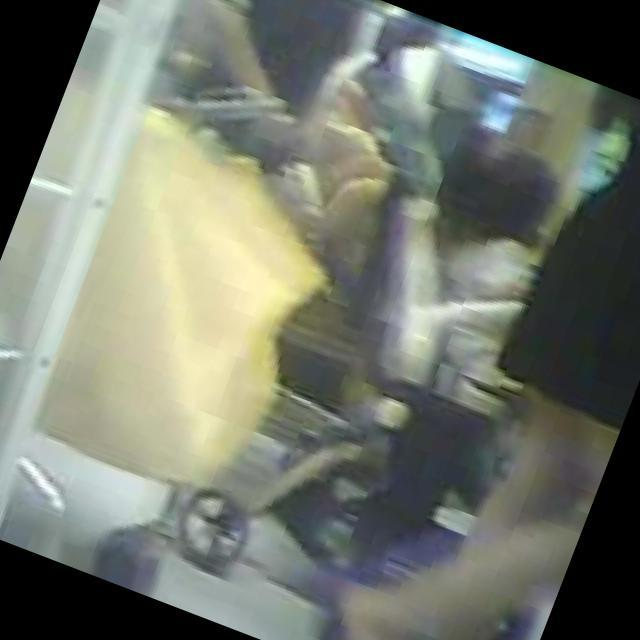person: (314, 63, 640, 640), (159, 0, 372, 169)
